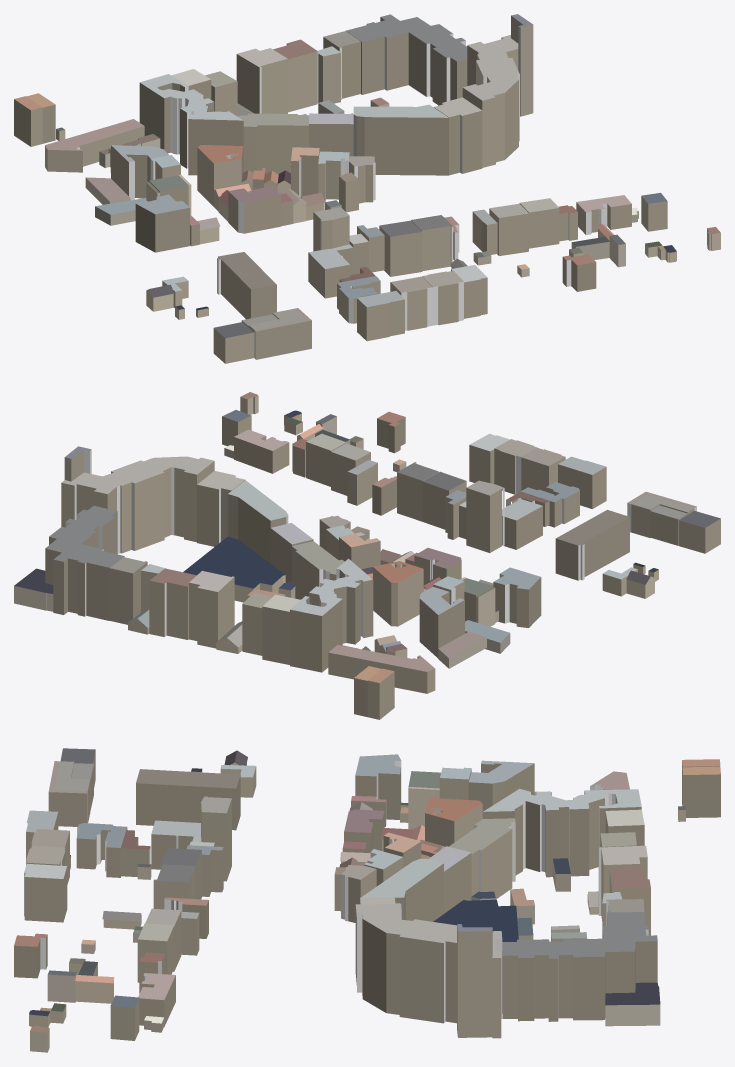
3 views of the same model, one above another, from view 1: azimuth 30°, elevation 25°; view 2: azimuth 150°, elevation 25°; view 3: azimuth 270°, elevation 25° (orthographic). The views are drawn at different scales.
Parts seen in each view (by area): view 1: tuile; view 2: tuile; view 3: tuile.
Part boxes in pixels (<box>): tuile: <box>14,14,720,363</box>; tuile: <box>14,392,720,719</box>; tuile: <box>14,748,720,1052</box>.
Bounding box in the file's own units: 249 × 50.18 × 262.
